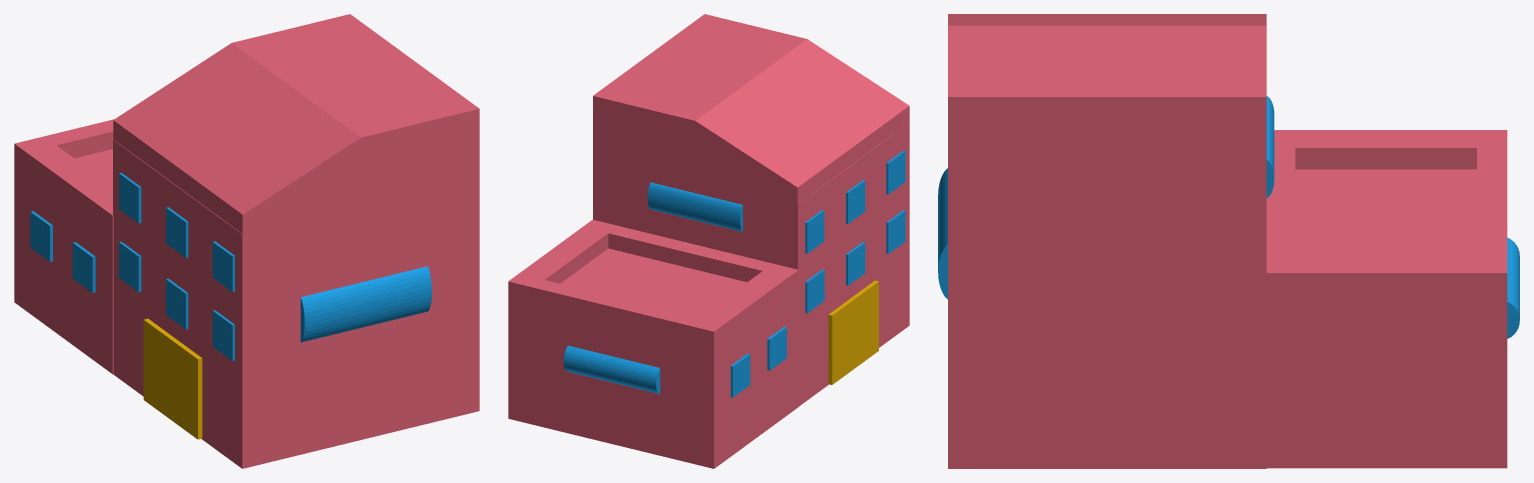
Rendered from casa 1.fbx.
3 views of the same model, side by side, from view 1: azimuth 30°, elevation 25°; view 2: azimuth 150°, elevation 25°; view 3: azimuth 270°, elevation 25° (orthographic). The views are drawn at different scales.
Visible parts, largest first — view 1: casa1, casa 2, Cilindro.001, Cubo.007, Cubo.006, Cubo.009, Cubo.008, Cubo, Cubo.001, Cubo.003, Cubo.004, Cubo.002 (+1 smaller); view 2: casa1, casa 2, Cilindro.002, Cilindro, Cubo.006, Cubo.007, Cubo.008, Cubo.009, Cubo.002, Cubo.003, Cubo.001, Cubo (+2 smaller); view 3: casa1, casa 2, Cilindro, Cilindro.001, Cilindro.002.
Boxes of the visible parts, x1=… form: casa1: x1=113, y1=14, x2=479, y2=468; casa 2: x1=14, y1=119, x2=113, y2=374; Cilindro.001: x1=300, y1=266, x2=431, y2=342; Cubo.007: x1=170, y1=338, x2=202, y2=439; Cubo.006: x1=143, y1=318, x2=174, y2=419; Cubo.009: x1=72, y1=242, x2=95, y2=292; Cubo.008: x1=30, y1=211, x2=52, y2=261; Cubo: x1=212, y1=241, x2=234, y2=292; Cubo.001: x1=119, y1=172, x2=141, y2=223; Cubo.003: x1=119, y1=241, x2=141, y2=292; Cubo.004: x1=166, y1=207, x2=188, y2=257; Cubo.002: x1=212, y1=310, x2=234, y2=360; casa1: x1=593, y1=14, x2=909, y2=405; casa 2: x1=508, y1=219, x2=799, y2=468; Cilindro.002: x1=647, y1=182, x2=742, y2=231; Cilindro: x1=563, y1=345, x2=660, y2=393; Cubo.006: x1=828, y1=297, x2=855, y2=384; Cubo.007: x1=852, y1=280, x2=878, y2=367; Cubo.008: x1=730, y1=353, x2=750, y2=397; Cubo.009: x1=767, y1=326, x2=786, y2=370; Cubo.002: x1=886, y1=210, x2=905, y2=253; Cubo.003: x1=805, y1=269, x2=824, y2=313; Cubo.001: x1=805, y1=210, x2=824, y2=253; Cubo: x1=886, y1=150, x2=905, y2=194; casa1: x1=948, y1=14, x2=1266, y2=468; casa 2: x1=1265, y1=130, x2=1507, y2=468; Cilindro: x1=1507, y1=237, x2=1519, y2=338; Cilindro.001: x1=938, y1=168, x2=947, y2=299; Cilindro.002: x1=1266, y1=96, x2=1274, y2=197.
Size of the model in its own units: 1032 by 1234 by 1748.
